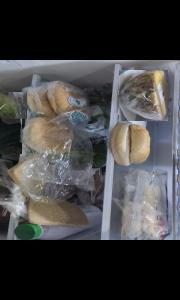Judia verde: (0, 118, 32, 154)
Lechuga/Endivia: (0, 92, 26, 119)
Pan de sandwich: (0, 152, 30, 201)
Pina: (118, 70, 167, 121)
